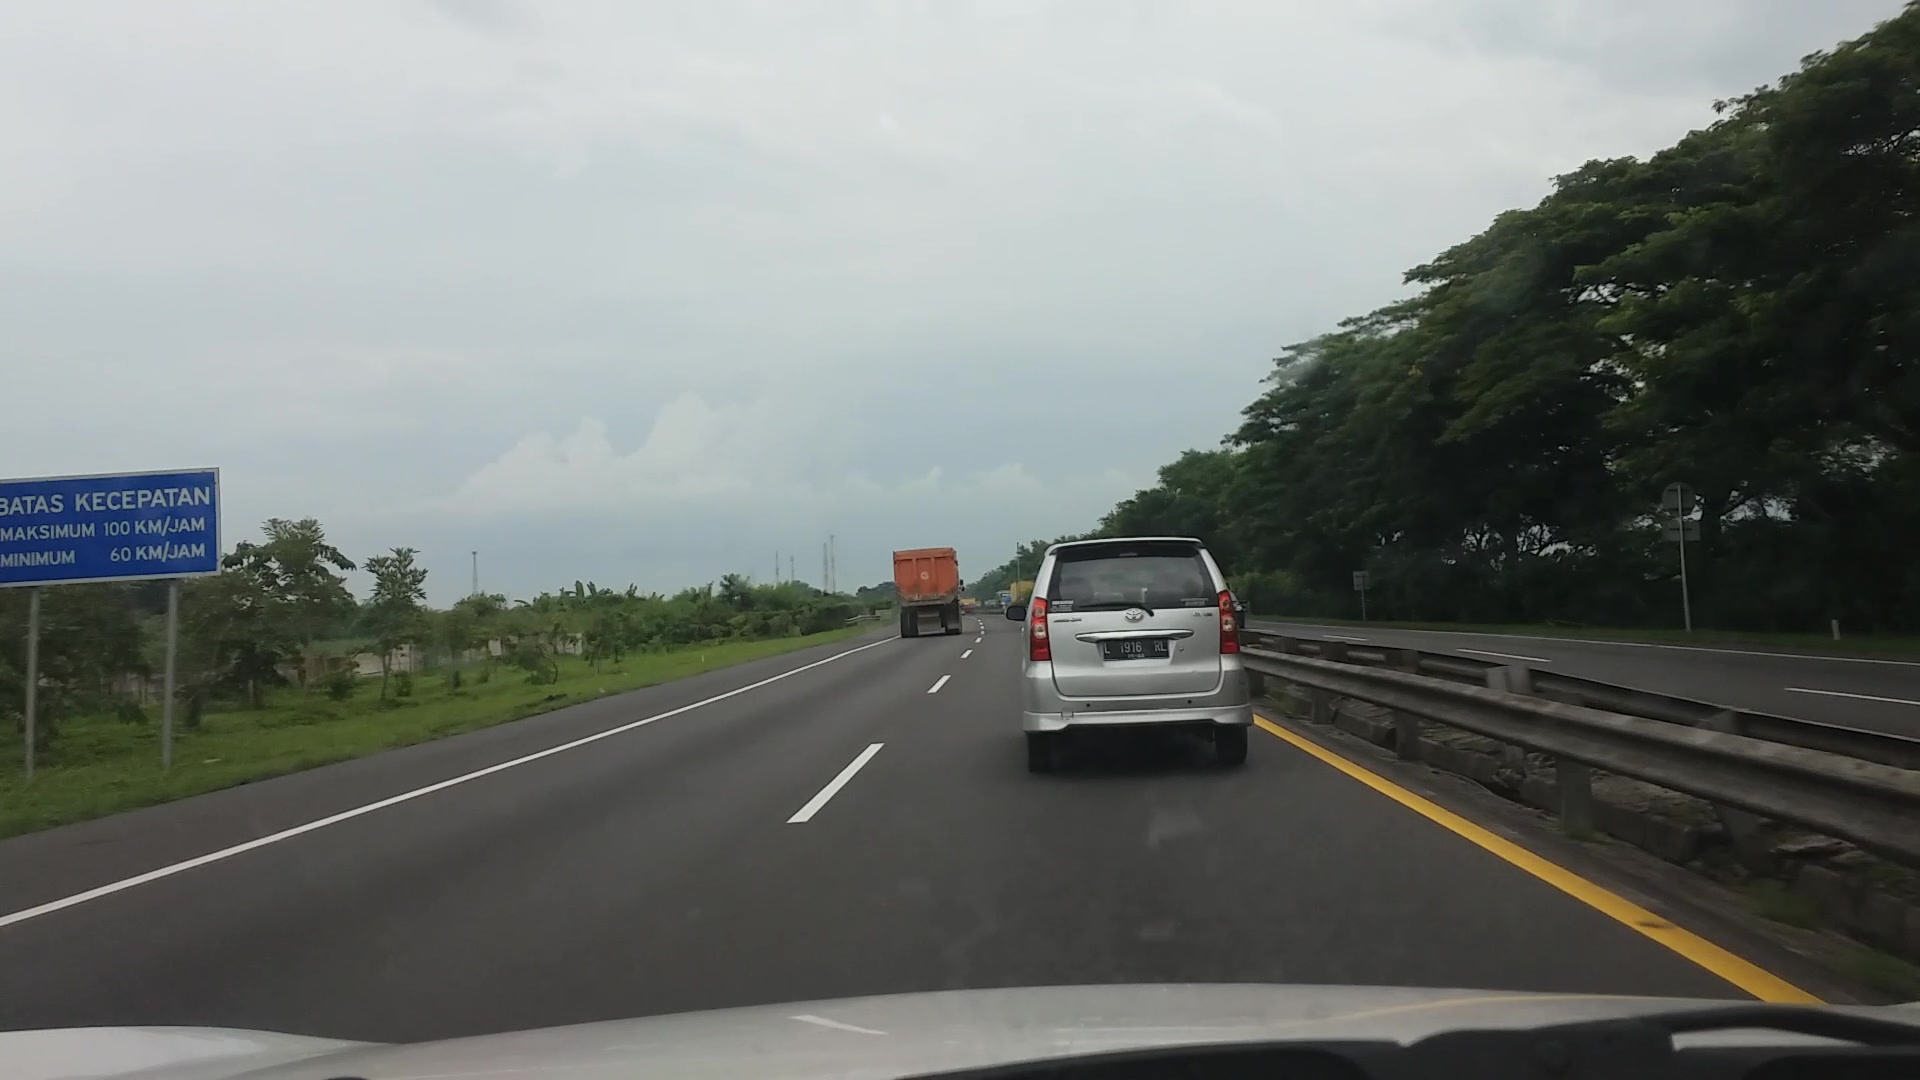plate_positive: (1102, 638, 1168, 659)
